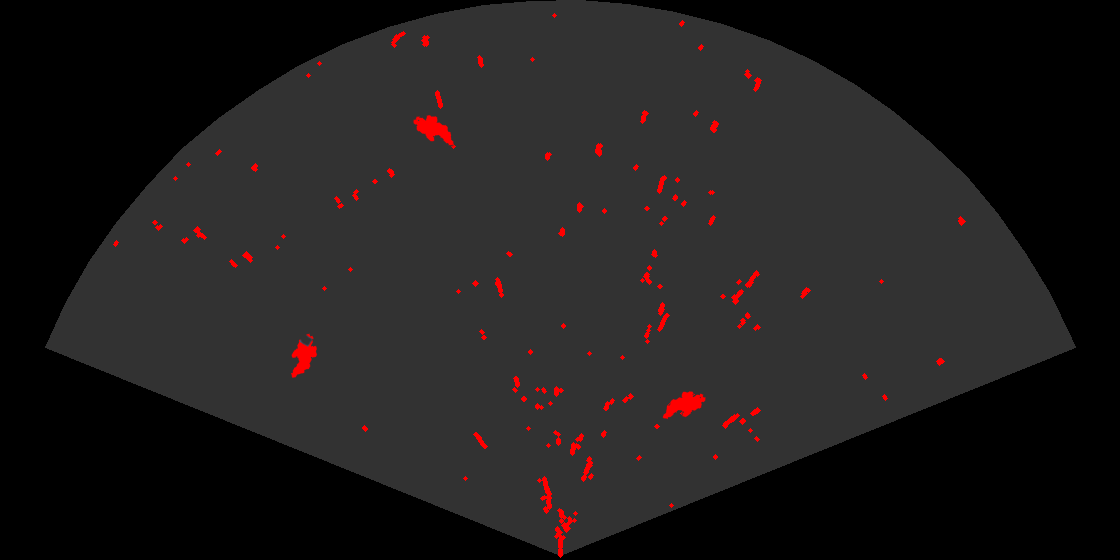AUV: (412, 113, 455, 147), (661, 390, 707, 421), (289, 332, 319, 379)
